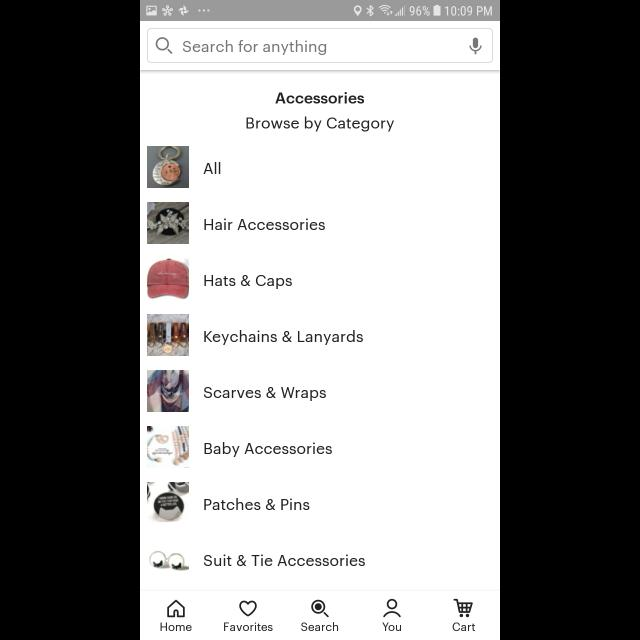icon: (454, 598, 474, 618), (167, 598, 185, 618), (383, 598, 401, 618), (156, 37, 174, 55), (311, 599, 329, 617), (239, 600, 257, 616), (470, 37, 482, 54)
image: (147, 314, 189, 356), (147, 258, 189, 300), (147, 202, 189, 244), (147, 146, 189, 188), (148, 370, 190, 412), (147, 426, 189, 468), (147, 482, 189, 522), (149, 550, 189, 570)
input: (147, 28, 493, 64)
text: (204, 330, 364, 346), (246, 116, 394, 132), (184, 40, 326, 56), (204, 442, 332, 458), (204, 386, 326, 402), (203, 554, 364, 566), (204, 218, 326, 230), (204, 274, 292, 290), (204, 498, 310, 510), (276, 92, 364, 104), (224, 622, 272, 632), (301, 621, 339, 631), (160, 622, 192, 632), (452, 622, 476, 632), (203, 162, 221, 174), (382, 622, 402, 632)
uppertaskbar: (140, 1, 500, 22)
